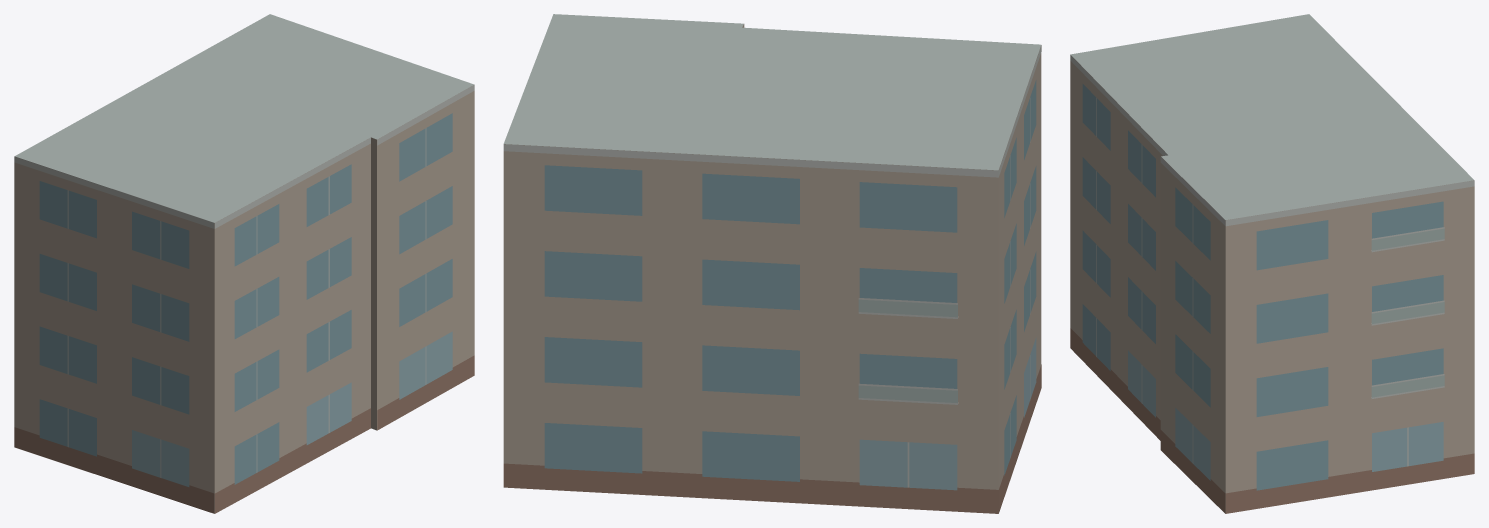
Rendered from survey-upis-32845599.glb.
3 renders of one model, left to right at view 1: azimuth 30°, elevation 25°; view 2: azimuth 150°, elevation 25°; view 3: azimuth 270°, elevation 25°, orthographic. The views are drawn at different scales.
Visible parts, largest first — view 1: survey-upis-32845599.tmp; view 2: survey-upis-32845599.tmp; view 3: survey-upis-32845599.tmp.
Part boxes in pixels (<box>): survey-upis-32845599.tmp: <box>14,14,474,513</box>; survey-upis-32845599.tmp: <box>503,14,1041,513</box>; survey-upis-32845599.tmp: <box>1070,14,1474,513</box>.
Size of the model in its own units: 17.5 by 11.62 by 14.5.
